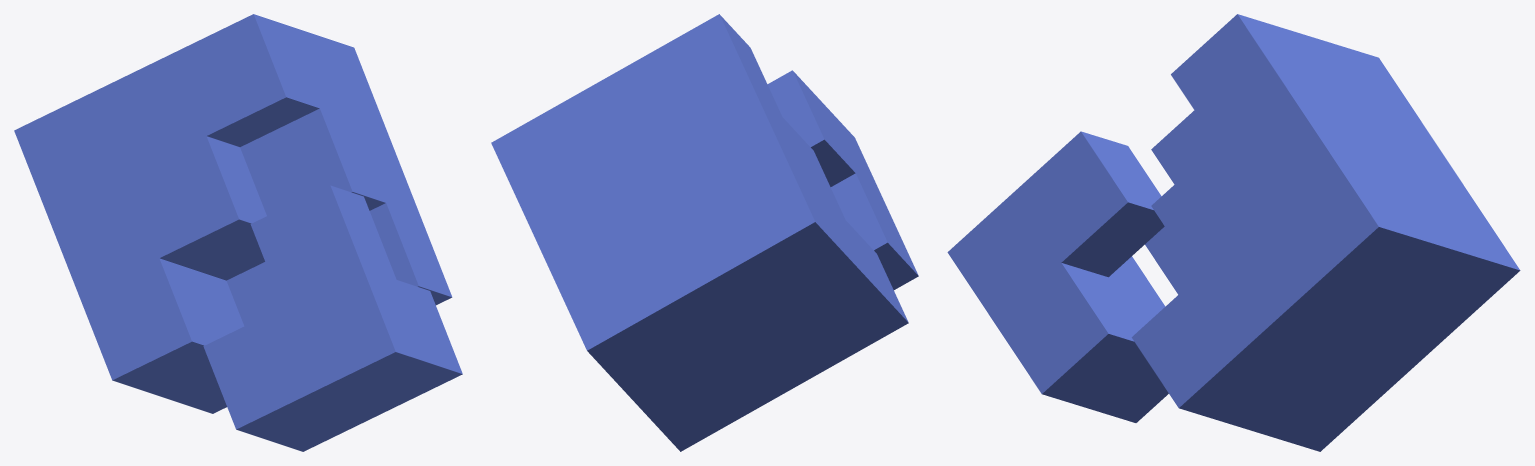
The model's file is mofang.FBX.
3 views of the same model, side by side, from view 1: azimuth 30°, elevation 25°; view 2: azimuth 150°, elevation 25°; view 3: azimuth 270°, elevation 25° (orthographic). The views are drawn at different scales.
Parts seen in each view (by area): view 1: Box255, Object064; view 2: Box255, Object064; view 3: Box255, Object064.
Boxes of the visible parts, x1,y1,x2,y2 form: Box255: (14, 14, 452, 413); Object064: (203, 185, 462, 451); Box255: (491, 14, 908, 451); Object064: (767, 70, 918, 289); Box255: (1131, 14, 1520, 451); Object064: (947, 131, 1168, 422).
Bounding box in the file's own units: 297 × 358 × 425.
